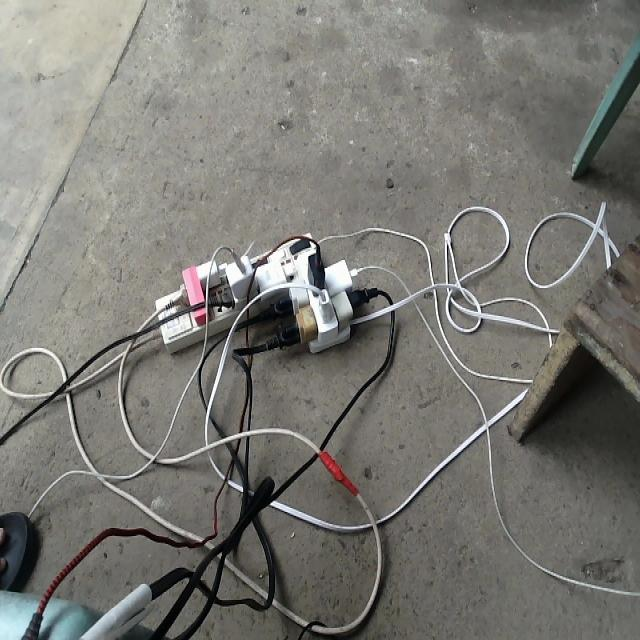-: (152, 230, 366, 354)
